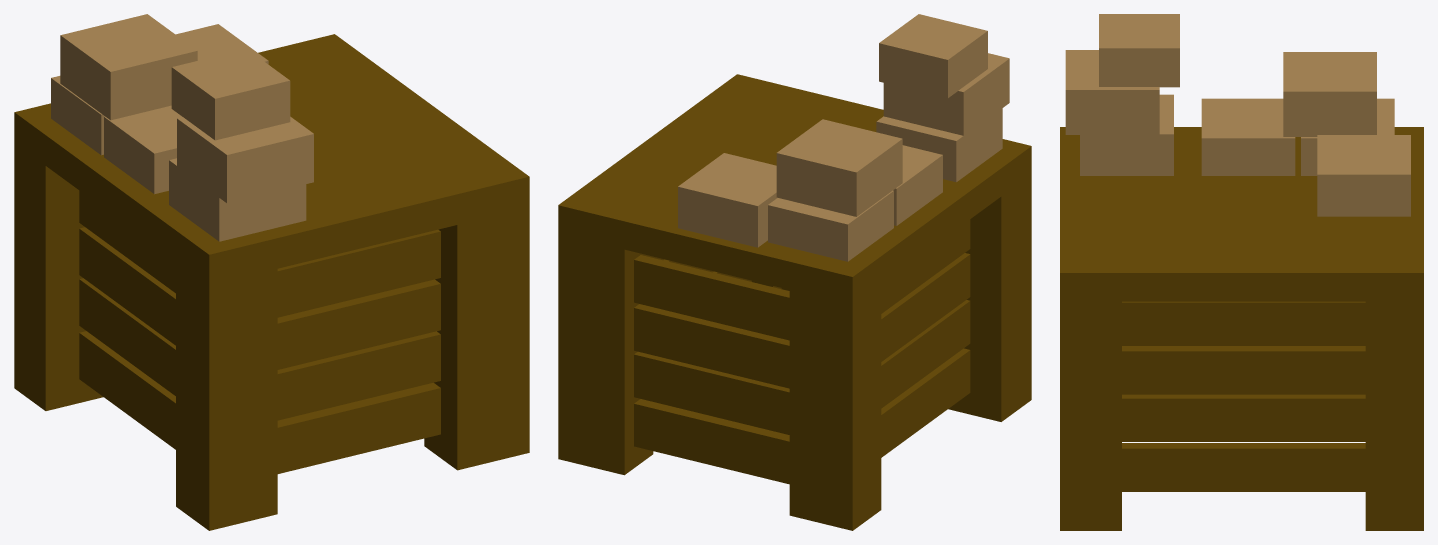
Rendered from platform.fbx.
3 views of the same model, side by side, from view 1: azimuth 30°, elevation 25°; view 2: azimuth 150°, elevation 25°; view 3: azimuth 270°, elevation 25° (orthographic). The views are drawn at different scales.
Parts seen in each view (by area): view 1: pCube9, pCube13 (×2), pCube11 (×2), pCube12 (×2), pCube10 (×2), pCube16, pCube18, pCube19, pCube17, pCube15, pCube14, pCube20; view 2: pCube9, pCube13 (×2), pCube11 (×2), pCube12 (×2), pCube10 (×2), pCube16, pCube20, pCube19, pCube14, pCube18, pCube17, pCube15; view 3: pCube9, pCube11, pCube13, pCube12, pCube10, pCube16, pCube20, pCube15, pCube19, pCube18, pCube17, pCube14.
Boxes of the visible parts, x1,y1,x2,y2 form: pCube9: [14, 34, 529, 530]; pCube13 (×2): [79, 331, 440, 473]; pCube11 (×2): [79, 227, 440, 369]; pCube12 (×2): [79, 278, 440, 420]; pCube10 (×2): [79, 190, 440, 317]; pCube16: [60, 14, 197, 120]; pCube18: [177, 116, 313, 203]; pCube19: [171, 49, 290, 140]; pCube17: [169, 158, 306, 241]; pCube15: [104, 105, 182, 194]; pCube14: [51, 76, 104, 155]; pCube20: [175, 24, 268, 64]; pCube9: [558, 74, 1031, 530]; pCube13 (×2): [634, 348, 970, 484]; pCube11 (×2): [634, 253, 970, 388]; pCube12 (×2): [634, 300, 970, 434]; pCube10 (×2): [634, 219, 970, 340]; pCube16: [776, 119, 902, 216]; pCube20: [678, 153, 777, 247]; pCube19: [879, 14, 987, 98]; pCube14: [768, 190, 893, 261]; pCube18: [883, 53, 1009, 136]; pCube17: [876, 108, 1002, 182]; pCube15: [893, 145, 942, 225]; pCube9: [1060, 127, 1423, 530]; pCube11: [1122, 346, 1365, 394]; pCube13: [1122, 443, 1365, 491]; pCube12: [1122, 394, 1365, 441]; pCube10: [1122, 301, 1365, 345]; pCube16: [1283, 52, 1376, 136]; pCube20: [1317, 135, 1410, 216]; pCube15: [1201, 98, 1295, 175]; pCube19: [1099, 14, 1179, 87]; pCube18: [1065, 50, 1159, 134]; pCube17: [1080, 94, 1173, 175]; pCube14: [1301, 98, 1394, 175].
Bounding box in the file's own units: 74.82 × 91.55 × 78.79.
